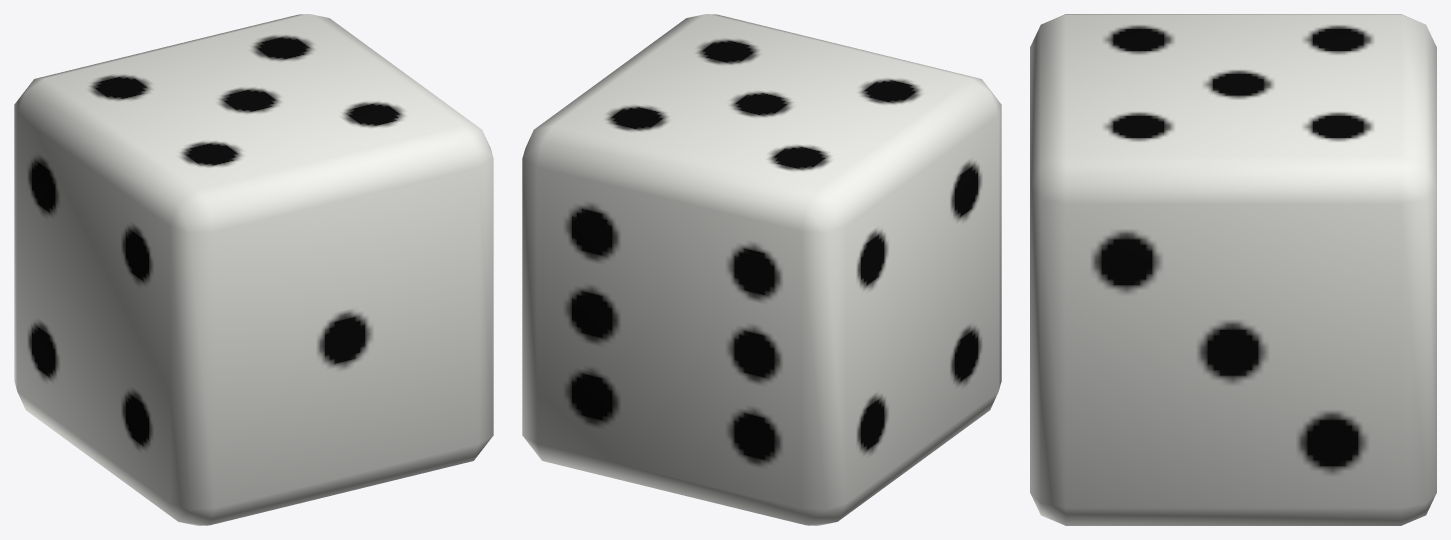
File: mesh_dbb_die.obj
The picture shows the model from 3 angles, left to right: view 1: azimuth 30°, elevation 25°; view 2: azimuth 150°, elevation 25°; view 3: azimuth 270°, elevation 25°; orthographic projection. The views are drawn at different scales.
Parts seen in each view (by area): view 1: cube; view 2: cube; view 3: cube.
Boxes of the visible parts, x1,y1,x2,y2 form: cube: (14, 14, 493, 525); cube: (522, 14, 1001, 525); cube: (1030, 14, 1436, 525).
Size of the model in its own units: 0.6 by 0.6 by 0.6.
